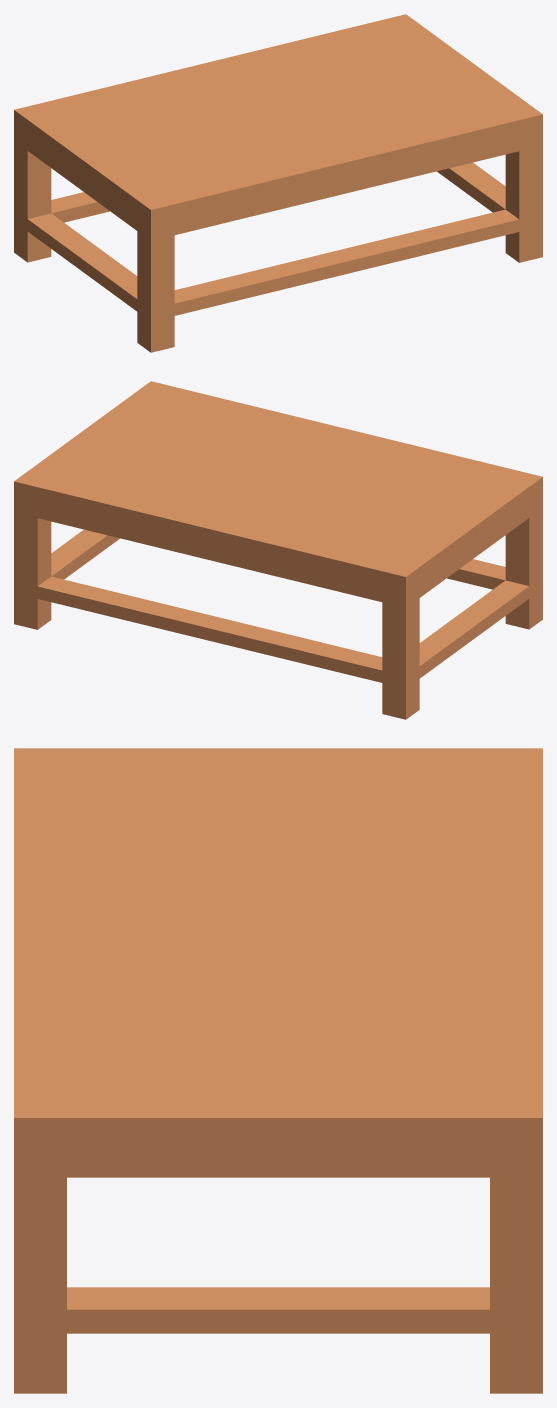
Rendered from tablecoffee.gltf.
3 views of the same model, one above another, from view 1: azimuth 30°, elevation 25°; view 2: azimuth 150°, elevation 25°; view 3: azimuth 270°, elevation 25° (orthographic). The views are drawn at different scales.
Visible parts, largest first — view 1: tablecoffee; view 2: tablecoffee; view 3: tablecoffee.
Part boxes in pixels (box(x1,y1,x2,y2)): tablecoffee: box(14, 14, 542, 352); tablecoffee: box(14, 381, 542, 719); tablecoffee: box(14, 748, 542, 1393).
Bounding box in the file's own units: 0.661 × 0.23 × 0.4.
1 material, 1 textured.
